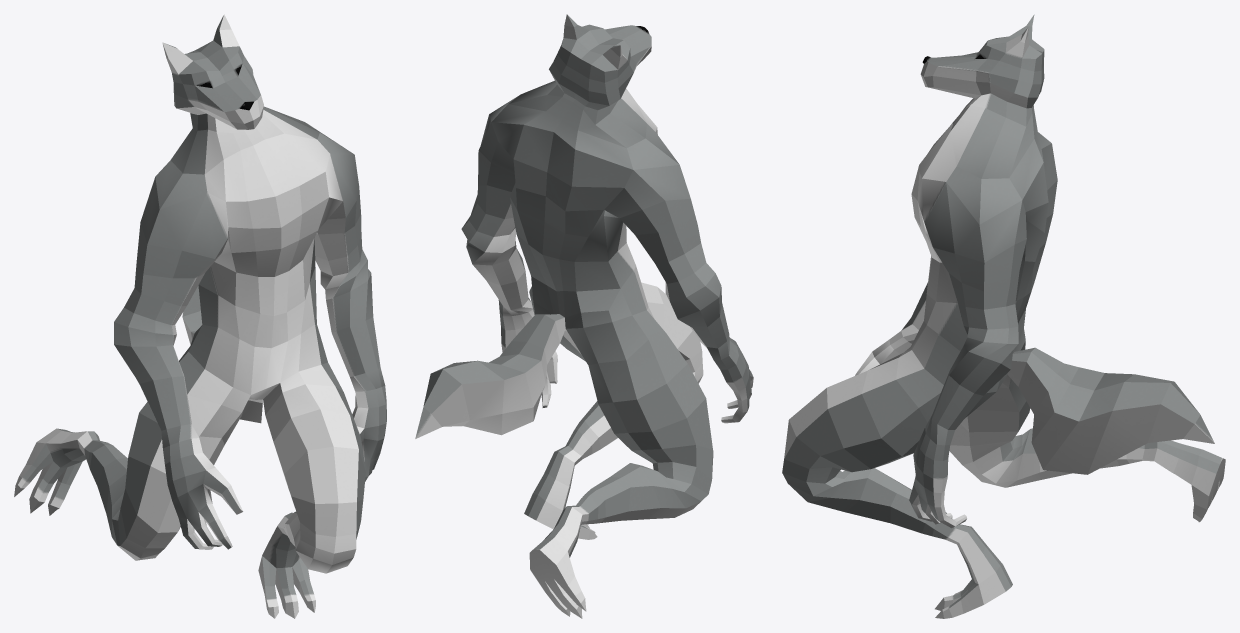
File: WolfDead(24).obj
3 renders of one model, left to right at view 1: azimuth 30°, elevation 25°; view 2: azimuth 150°, elevation 25°; view 3: azimuth 270°, elevation 25°, orthographic. The views are drawn at different scales.
Parts seen in each view (by area): view 1: Box001; view 2: Box001; view 3: Box001.
Boxes of the visible parts, box(x1,y1,x2,y2) form: Box001: box(14, 14, 386, 618); Box001: box(415, 14, 753, 618); Box001: box(782, 14, 1225, 618).
Size of the model in its own units: 62.78 by 133 by 93.77.
